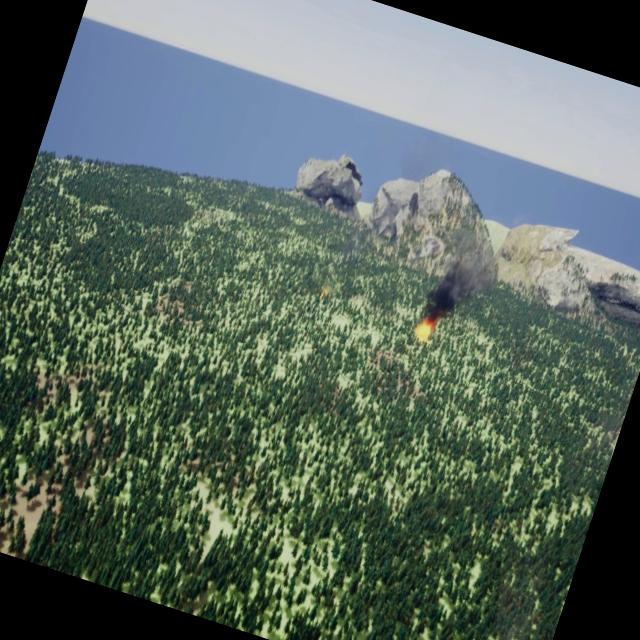fire: (413, 314, 439, 341)
smoke: (421, 252, 484, 329)
